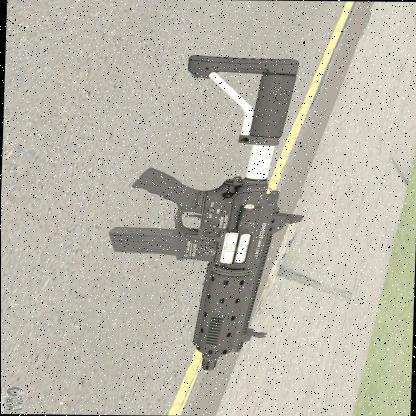rifle: (90, 46, 310, 378)
